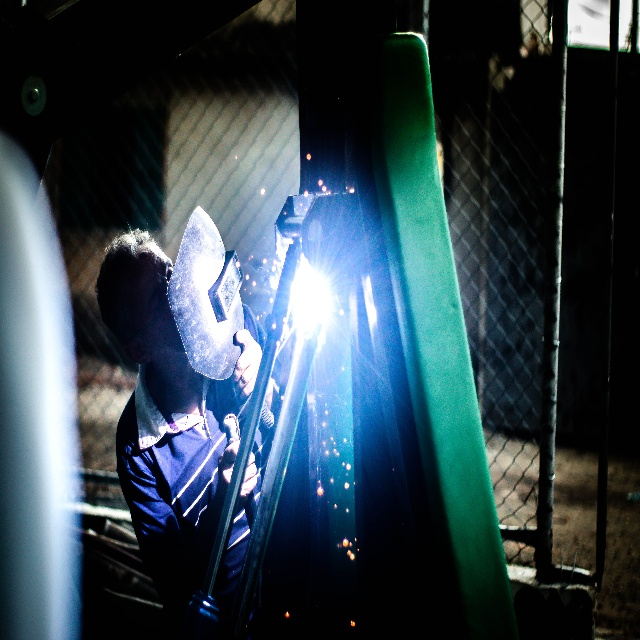Sin_guantes: (216, 435, 261, 506), (228, 327, 265, 403)
